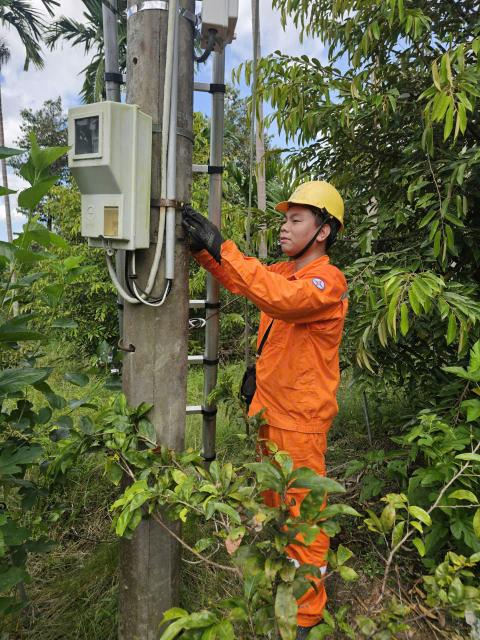gloves: (176, 207, 232, 256)
helmet: (269, 172, 353, 231)
